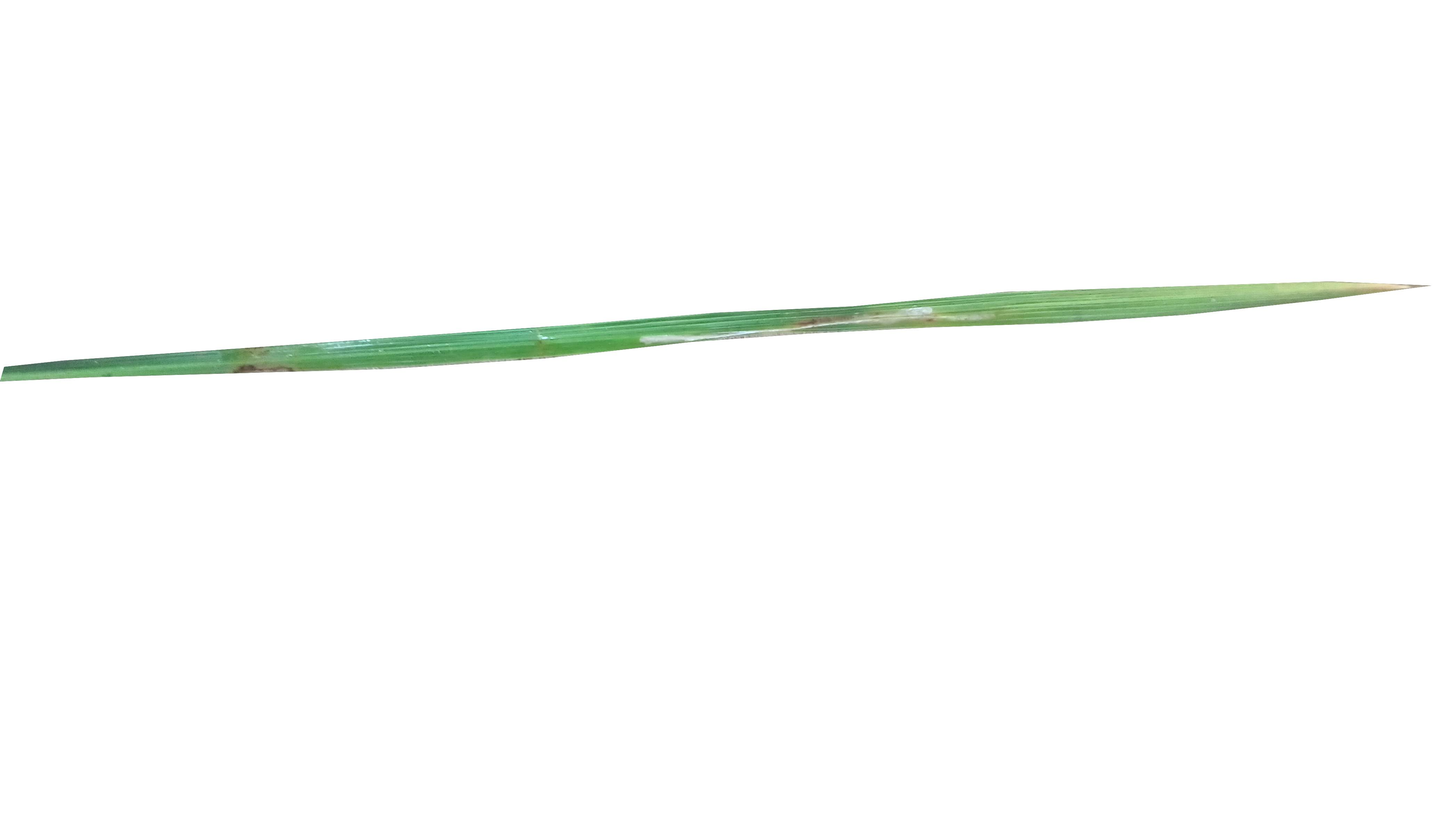Rice blast: (231, 358, 300, 375)
